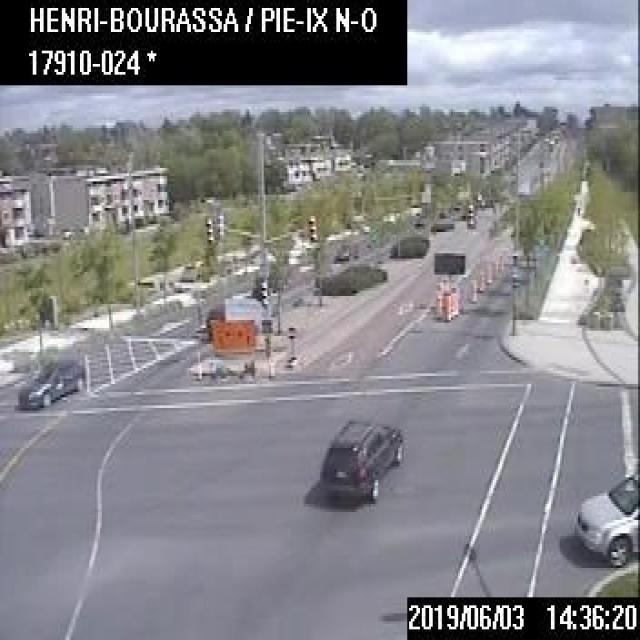construction: (193, 293, 271, 379), (432, 250, 464, 316), (469, 276, 476, 301), (477, 267, 484, 290), (443, 292, 449, 317), (448, 293, 454, 316), (435, 291, 440, 315)
vehicle: (318, 419, 402, 501), (573, 470, 638, 566), (17, 360, 84, 408), (333, 243, 351, 261)
